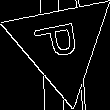P_E: (34, 21, 88, 67)
